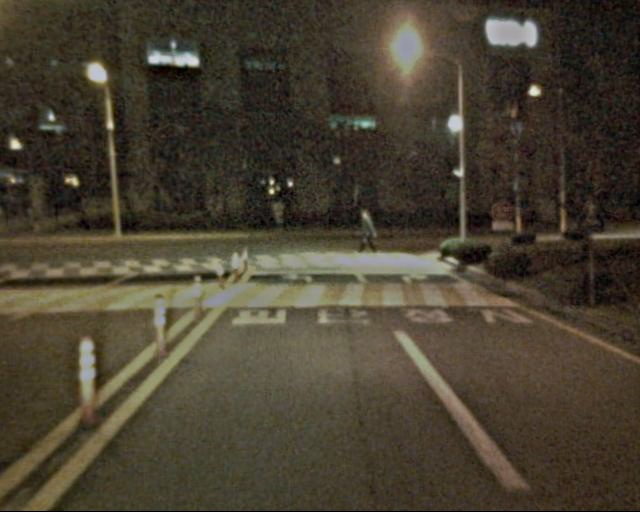person: (354, 209, 378, 268)
